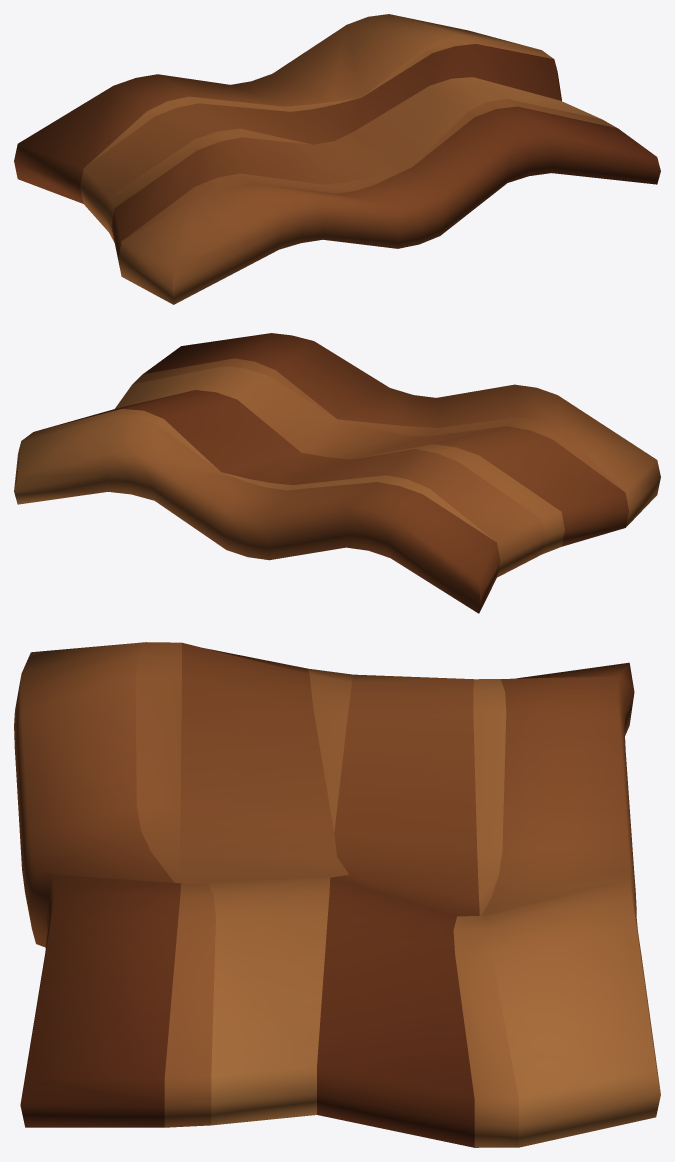
File: Bacon_02.glb
The picture shows the model from 3 angles, top to bottom: view 1: azimuth 30°, elevation 25°; view 2: azimuth 150°, elevation 25°; view 3: azimuth 270°, elevation 25°; orthographic projection. The views are drawn at different scales.
Visible parts, largest first — view 1: Bacon_02; view 2: Bacon_02; view 3: Bacon_02.
Boxes of the visible parts, x1,y1,x2,y2 form: Bacon_02: (14, 14, 660, 304); Bacon_02: (14, 333, 660, 613); Bacon_02: (14, 642, 660, 1147).
Bounding box in the file's own units: 0.565 × 0.0835 × 0.3403.
Materials: 1 (1 with a texture image).
